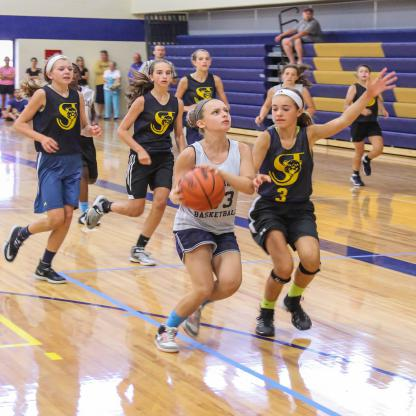Ball: (177, 167, 224, 214)
